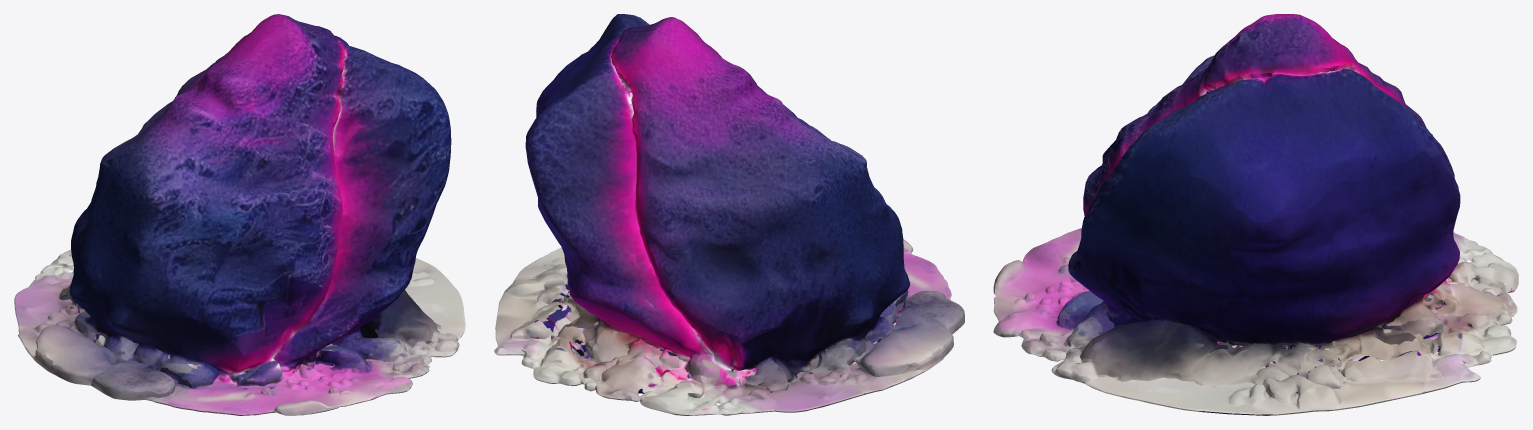
The model's file is shore-stone-10-generated-2026-05-17T20-19-38-041Z.medium.glb.
3 renders of one model, left to right at view 1: azimuth 30°, elevation 25°; view 2: azimuth 150°, elevation 25°; view 3: azimuth 270°, elevation 25°, orthographic. The views are drawn at different scales.
Parts seen in each view (by area): view 1: temp_mesh.ply; view 2: temp_mesh.ply; view 3: temp_mesh.ply.
Part boxes in pixels (x1,y1,x2,y2): temp_mesh.ply: (14, 14, 465, 415); temp_mesh.ply: (494, 14, 964, 415); temp_mesh.ply: (993, 14, 1518, 415).
Size of the model in its own units: 1.97 by 1.33 by 1.97.
1 material, 1 textured.
